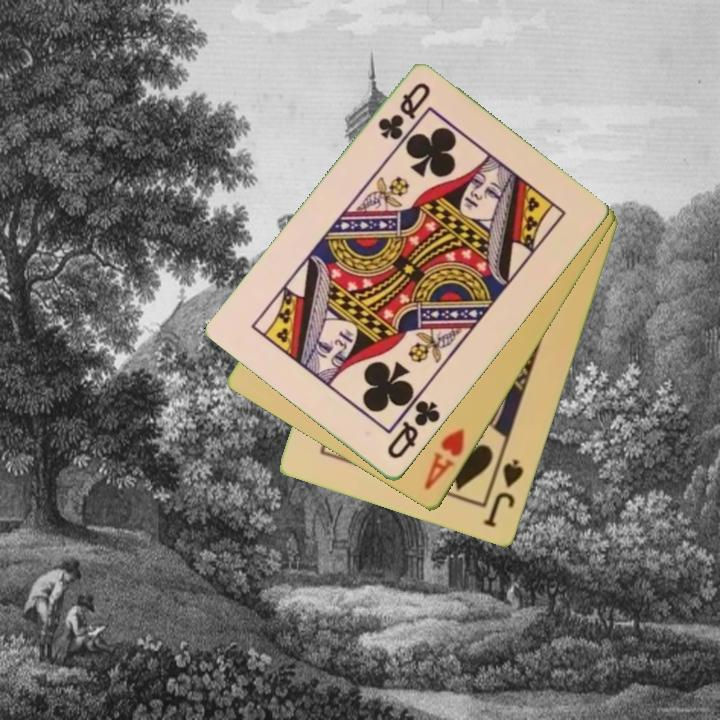Ah: (420, 425, 468, 494)
Js: (480, 456, 527, 531)
Qc: (383, 397, 444, 463), (374, 79, 434, 144)
